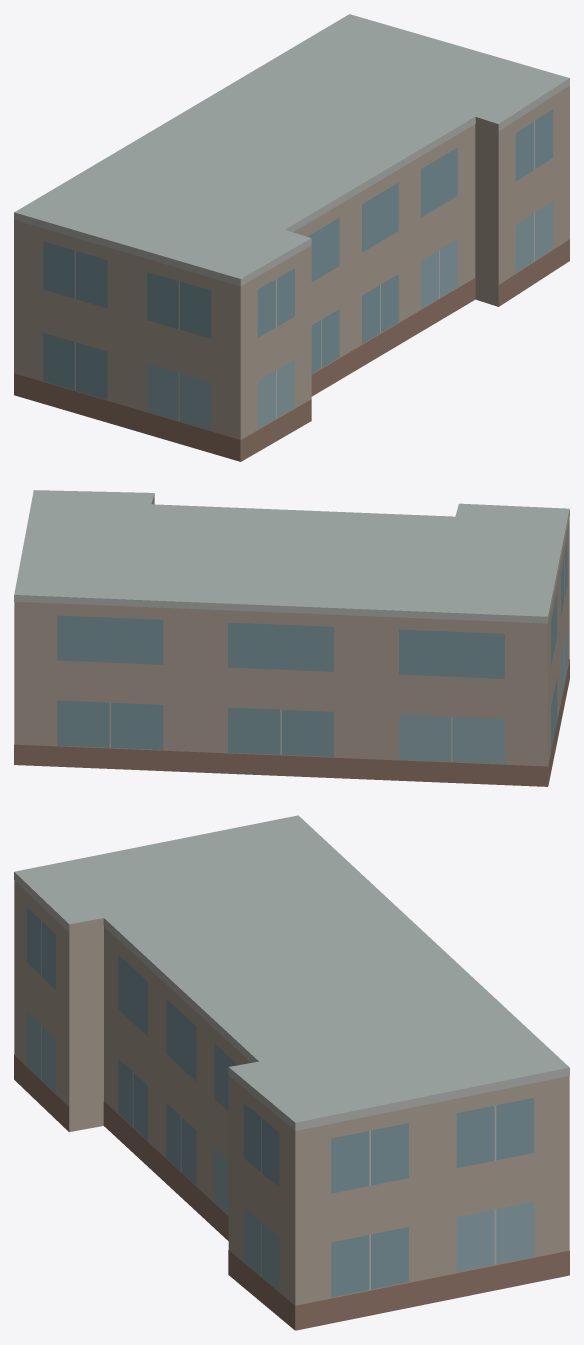
File: survey-upis-32687552.glb
The picture shows the model from 3 angles, top to bottom: view 1: azimuth 30°, elevation 25°; view 2: azimuth 150°, elevation 25°; view 3: azimuth 270°, elevation 25°; orthographic projection. The views are drawn at different scales.
Visible parts, largest first — view 1: survey-upis-32687552.tmp; view 2: survey-upis-32687552.tmp; view 3: survey-upis-32687552.tmp.
Part boxes in pixels (<box>): survey-upis-32687552.tmp: <box>14,14,569,461</box>; survey-upis-32687552.tmp: <box>14,490,569,786</box>; survey-upis-32687552.tmp: <box>14,815,569,1330</box>.
Bounding box in the file's own units: 19.37 × 6.1 × 14.79.
